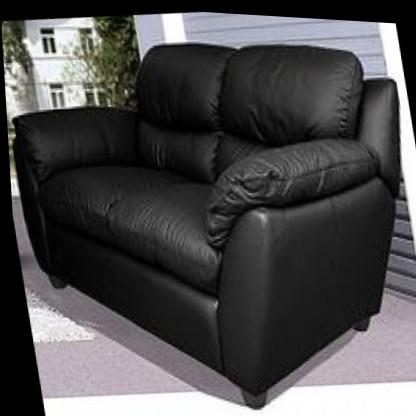Sofa: (0, 5, 416, 416)
